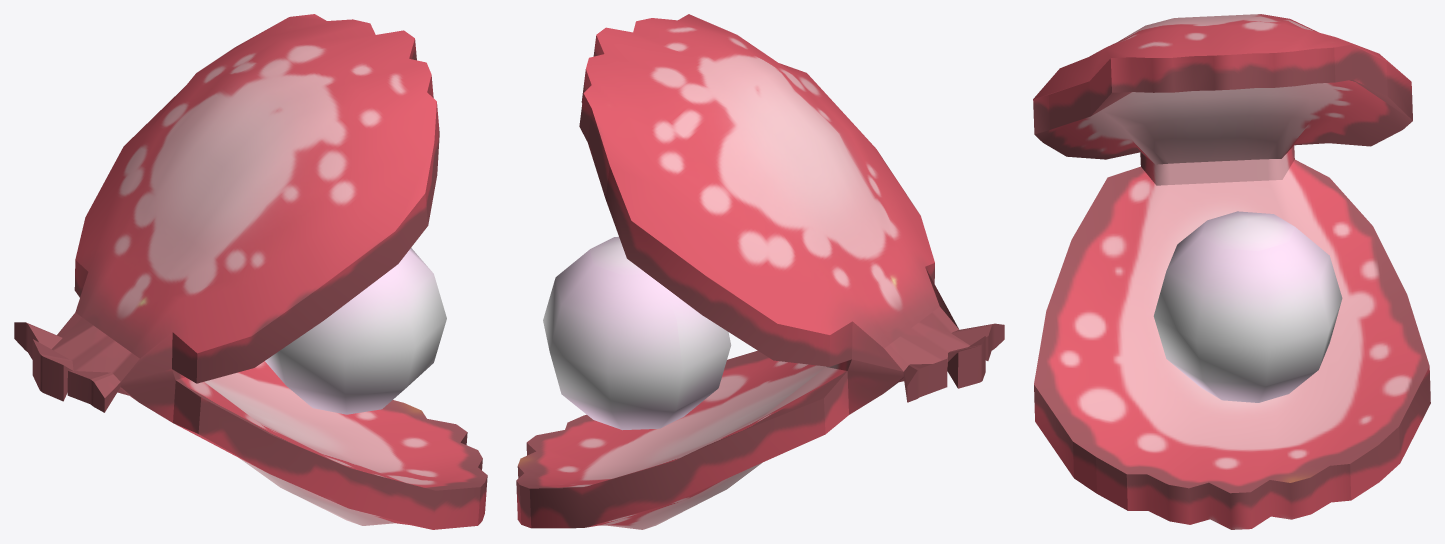
Rendered from seashell.fbx.
3 views of the same model, side by side, from view 1: azimuth 30°, elevation 25°; view 2: azimuth 150°, elevation 25°; view 3: azimuth 270°, elevation 25° (orthographic). The views are drawn at different scales.
Visible parts, largest first — view 1: Seashell:mesh_SeashellShell, Seashell:mesh_SeashellPearl; view 2: Seashell:mesh_SeashellShell, Seashell:mesh_SeashellPearl; view 3: Seashell:mesh_SeashellShell, Seashell:mesh_SeashellPearl.
Boxes of the visible parts, <box> form: Seashell:mesh_SeashellShell: <box>14,14,487,529</box>; Seashell:mesh_SeashellPearl: <box>265,248,446,414</box>; Seashell:mesh_SeashellShell: <box>516,14,1004,529</box>; Seashell:mesh_SeashellPearl: <box>543,236,731,430</box>; Seashell:mesh_SeashellShell: <box>1033,14,1430,529</box>; Seashell:mesh_SeashellPearl: <box>1153,211,1342,402</box>.
Bounding box in the file's own units: 1.38 × 1.4 × 1.11.
